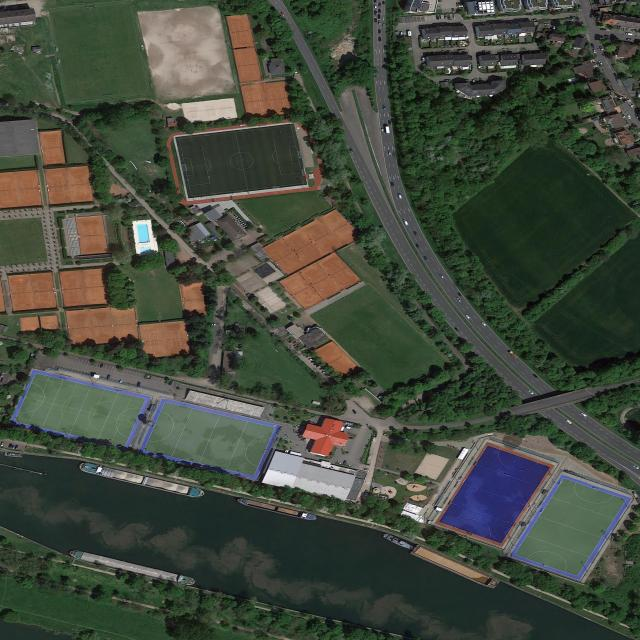large-vehicle: (508, 350, 519, 360), (385, 126, 390, 134)
ship: (380, 531, 501, 591), (66, 548, 197, 587), (77, 461, 207, 500), (236, 497, 319, 522), (4, 452, 24, 458)
small-vehicle: (454, 327, 461, 333), (168, 380, 174, 386), (615, 78, 621, 84), (580, 412, 587, 417), (633, 465, 640, 470), (292, 340, 299, 345), (403, 220, 408, 226), (481, 321, 487, 326), (439, 274, 445, 279), (397, 193, 402, 199), (529, 390, 535, 395), (577, 4, 582, 10), (634, 113, 639, 119), (422, 256, 428, 261), (349, 148, 354, 154), (566, 420, 573, 424), (626, 32, 633, 36), (347, 436, 354, 440), (456, 297, 461, 302), (99, 363, 104, 368), (613, 73, 618, 78), (352, 409, 357, 414), (465, 315, 471, 319), (530, 19, 538, 22), (532, 374, 538, 378), (544, 22, 551, 25), (600, 28, 607, 31), (324, 373, 331, 376), (308, 358, 315, 361), (592, 49, 597, 53), (599, 46, 603, 51), (107, 375, 111, 380), (552, 25, 557, 29), (589, 14, 593, 19), (599, 60, 603, 65), (472, 79, 476, 84), (435, 15, 439, 20), (1, 442, 5, 447), (413, 231, 418, 235), (415, 243, 419, 248), (390, 181, 394, 186), (294, 69, 298, 74), (626, 38, 632, 41), (9, 443, 12, 449), (604, 35, 610, 38), (15, 444, 18, 450), (322, 371, 328, 374), (627, 115, 631, 119), (488, 51, 492, 55), (388, 150, 391, 155), (378, 2, 381, 7), (400, 31, 403, 36), (591, 43, 594, 48), (452, 8, 455, 13), (12, 444, 15, 449), (379, 37, 382, 42), (383, 105, 386, 110), (374, 18, 377, 23), (378, 29, 381, 34), (444, 79, 451, 81), (462, 79, 469, 81), (316, 366, 323, 368), (313, 363, 320, 365), (310, 361, 317, 363), (374, 5, 377, 9), (378, 21, 381, 25), (444, 15, 447, 19), (457, 5, 463, 7), (456, 2, 462, 4), (319, 369, 325, 371), (388, 120, 391, 124), (382, 1, 385, 5), (378, 9, 381, 13), (569, 19, 574, 21), (307, 356, 312, 358), (378, 14, 380, 19), (382, 24, 385, 27), (375, 11, 377, 15)
